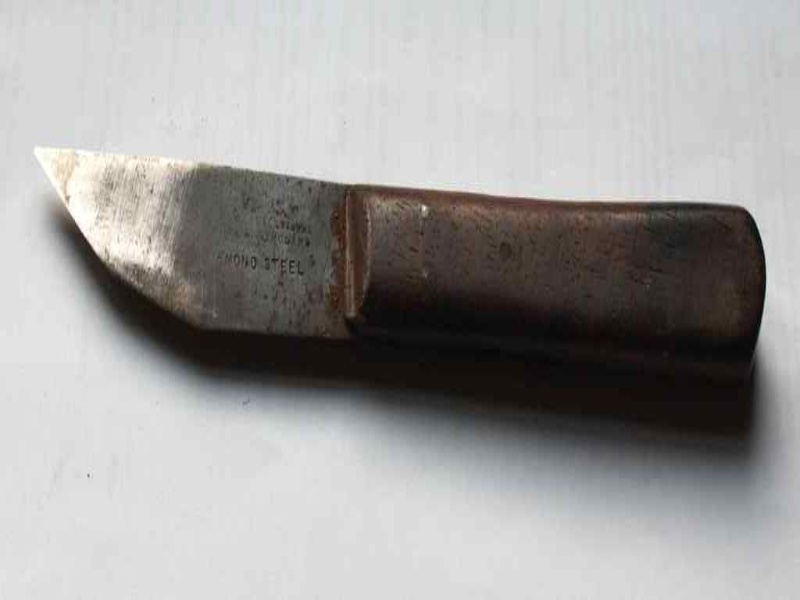knife: (26, 130, 772, 381)
